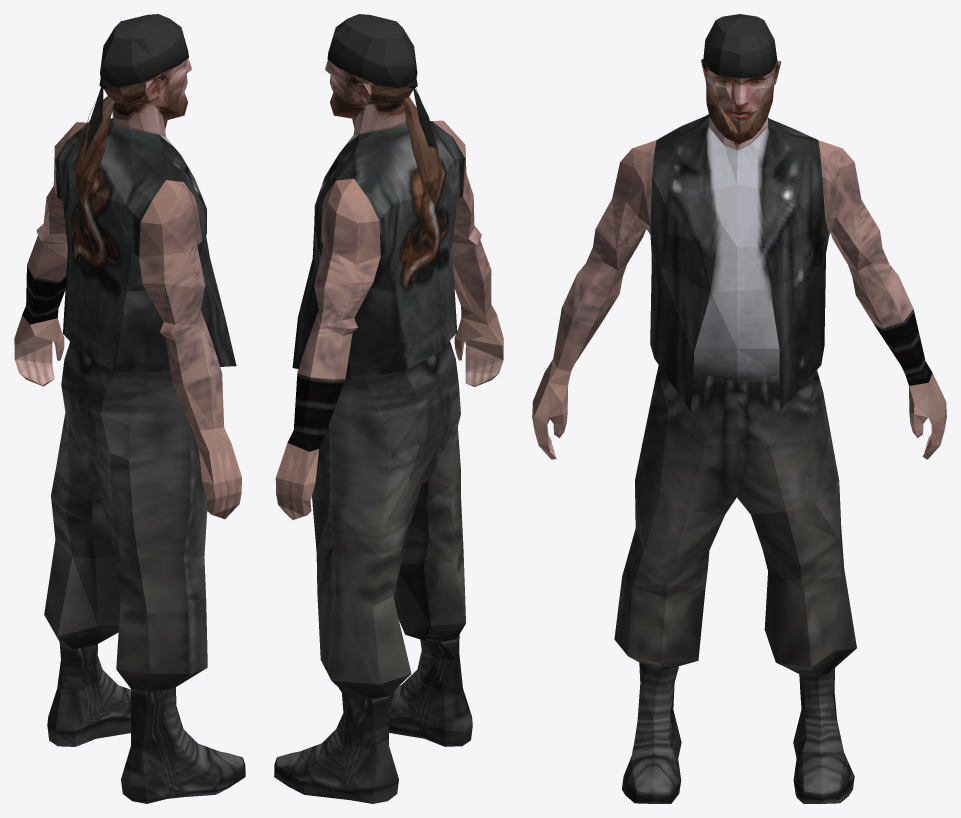
File: bikdrug.obj
The picture shows the model from 3 angles, left to right: view 1: azimuth 30°, elevation 25°; view 2: azimuth 150°, elevation 25°; view 3: azimuth 270°, elevation 25°; orthographic projection. The views are drawn at different scales.
Parts seen in each view (by area): view 1: _Pelvis; view 2: _Pelvis; view 3: _Pelvis.
Boxes of the visible parts, <box> form: _Pelvis: <box>14,14,245,803</box>; _Pelvis: <box>274,14,503,803</box>; _Pelvis: <box>532,14,946,803</box>.
Size of the model in its own units: 0.3636 by 1.89 by 0.9308.
1 material, 1 textured.
